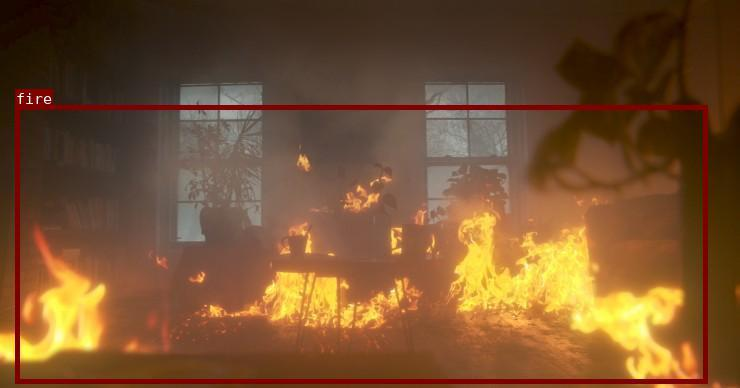fire: (14, 104, 707, 383)
